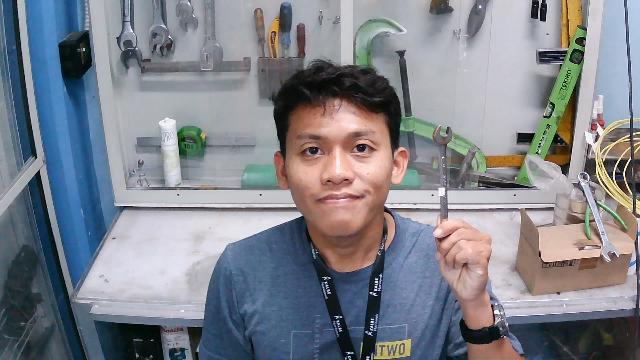kunci_pass_13: (424, 113, 497, 274)
